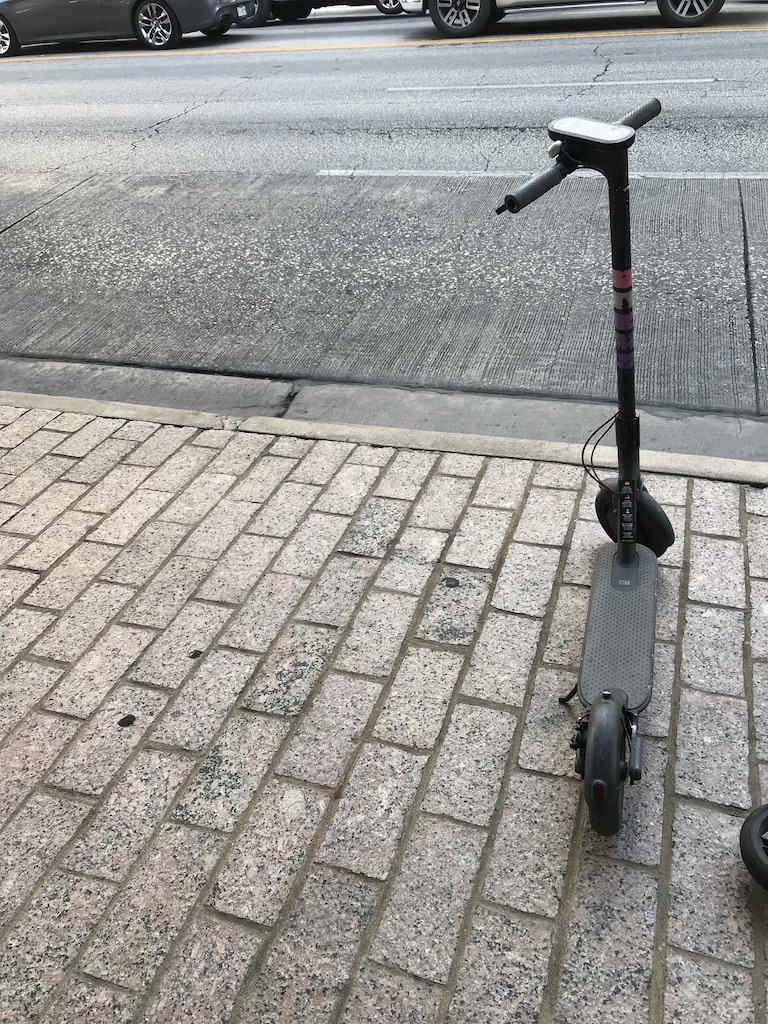scooter: (493, 97, 677, 839)
